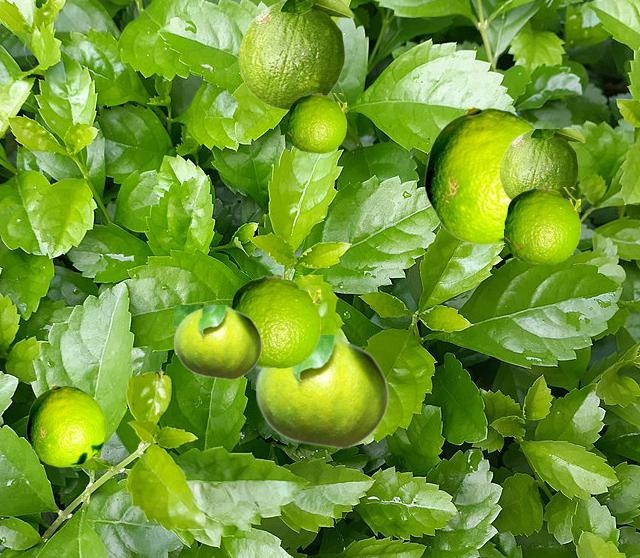dalandan: (424, 107, 537, 244), (256, 335, 388, 448), (238, 0, 353, 109), (231, 275, 319, 367), (174, 305, 261, 379), (26, 385, 105, 466), (499, 129, 584, 199), (504, 187, 579, 263), (287, 93, 345, 152)
